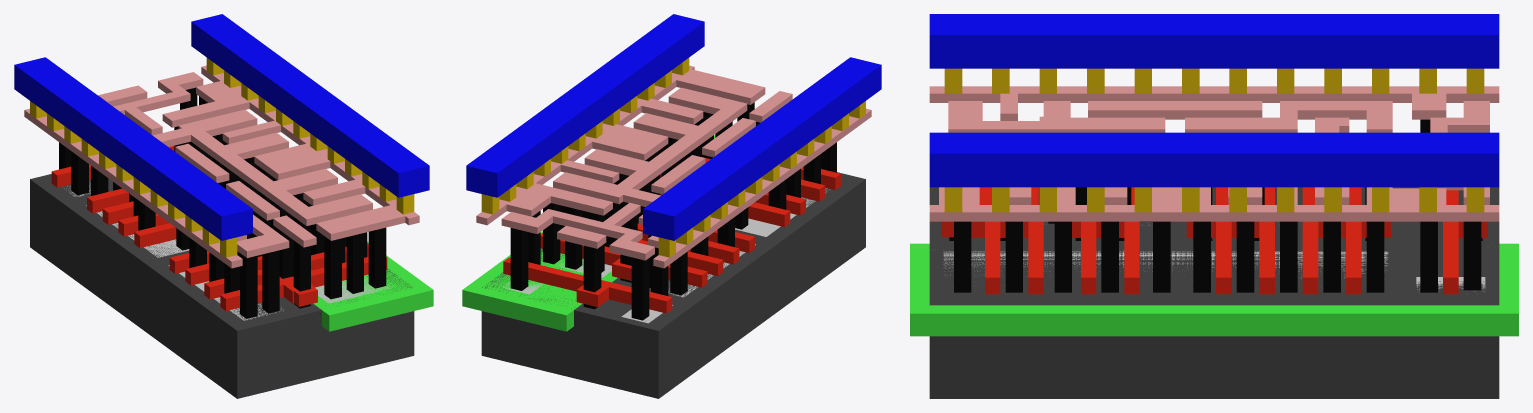
Rendered from sky130_fd_sc_hd__nand4b_2.obj.
3 renders of one model, left to right at view 1: azimuth 30°, elevation 25°; view 2: azimuth 150°, elevation 25°; view 3: azimuth 270°, elevation 25°, orthographic. The views are drawn at different scales.
Parts seen in each view (by area): view 1: subs, metal1, li, licon, poly, mcon, nwell, diff, tap; view 2: subs, metal1, li, licon, poly, nwell, mcon, diff, tap; view 3: metal1, subs, li, nwell, licon, poly, mcon, tap.
Boxes of the visible parts, x1=… form: subs: x1=30, y1=174, x2=414, y2=398; metal1: x1=14, y1=14, x2=429, y2=240; li: x1=24, y1=65, x2=419, y2=268; licon: x1=59, y1=87, x2=386, y2=318; poly: x1=51, y1=146, x2=387, y2=310; mcon: x1=30, y1=58, x2=414, y2=257; nwell: x1=313, y1=241, x2=433, y2=331; diff: x1=64, y1=182, x2=283, y2=320; tap: x1=315, y1=275, x2=392, y2=303; subs: x1=481, y1=172, x2=865, y2=398; metal1: x1=466, y1=14, x2=881, y2=240; li: x1=476, y1=65, x2=871, y2=268; licon: x1=510, y1=102, x2=836, y2=320; poly: x1=503, y1=157, x2=840, y2=313; nwell: x1=462, y1=135, x2=715, y2=331; mcon: x1=481, y1=58, x2=865, y2=257; diff: x1=621, y1=188, x2=829, y2=323; tap: x1=503, y1=259, x2=611, y2=294; metal1: x1=929, y1=14, x2=1499, y2=187; subs: x1=929, y1=187, x2=1499, y2=398; li: x1=929, y1=86, x2=1499, y2=221; nwell: x1=910, y1=243, x2=1518, y2=336; licon: x1=949, y1=119, x2=1482, y2=292; poly: x1=941, y1=187, x2=1487, y2=294; mcon: x1=944, y1=68, x2=1484, y2=212; tap: x1=943, y1=251, x2=1485, y2=291.
Size of the model in its own units: 3.2 by 2.74 by 5.9.
